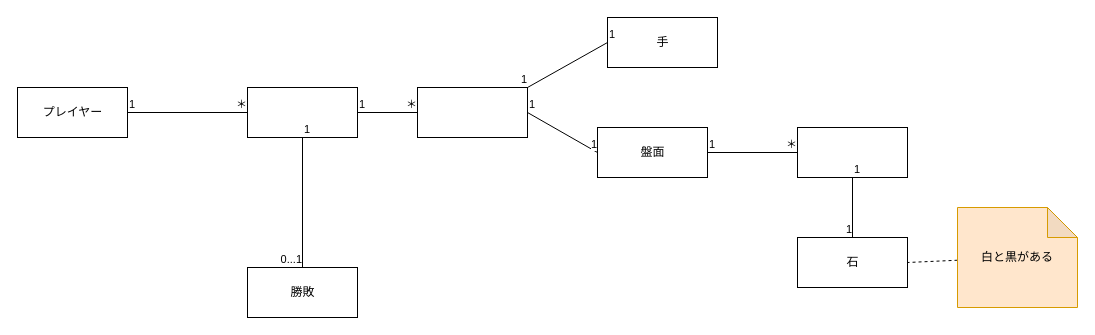
Image size: 1095x335. Some labels were removed from this diagram. The shapes that lost their labels are listed below. From the top down, each one's centre as x and y in pixels, then its label:
At (302,112): "対戦(開始)".
At (472,112): "ターン".
At (852,152): "マス目".
